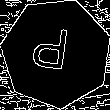P_S: (34, 25, 78, 81)
